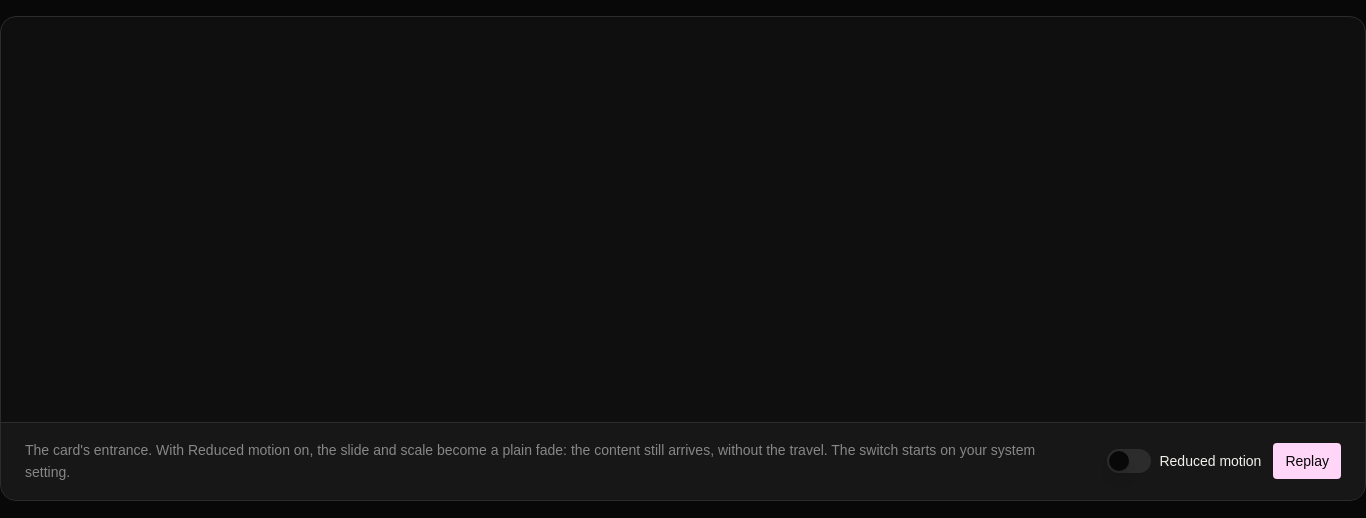
Scenario: Fluid-interfaces demos › toggles reduced motion and replays
This screenshot has width=1366, height=518.
Click the switch named "Reduced motion" at (1130, 461), box [1108,449,1152,473]
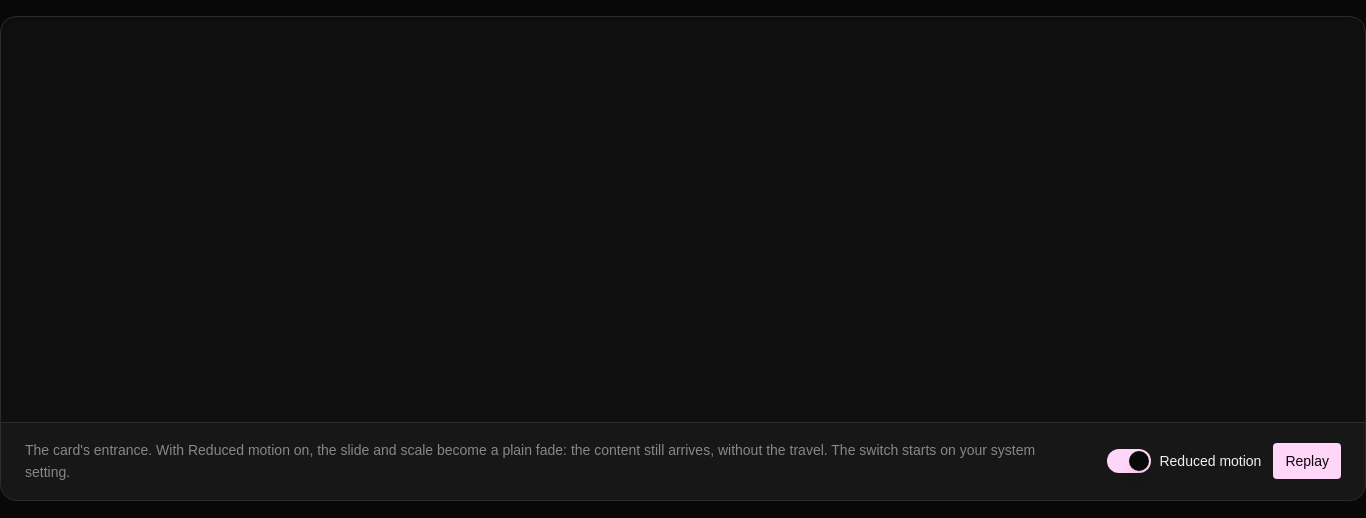
expect the switch named "Reduced motion" does not have attribute aria-checked="false": met, box [1108,449,1152,473]
Click the button "Replay" at (1307, 461), box [1273,443,1341,479]
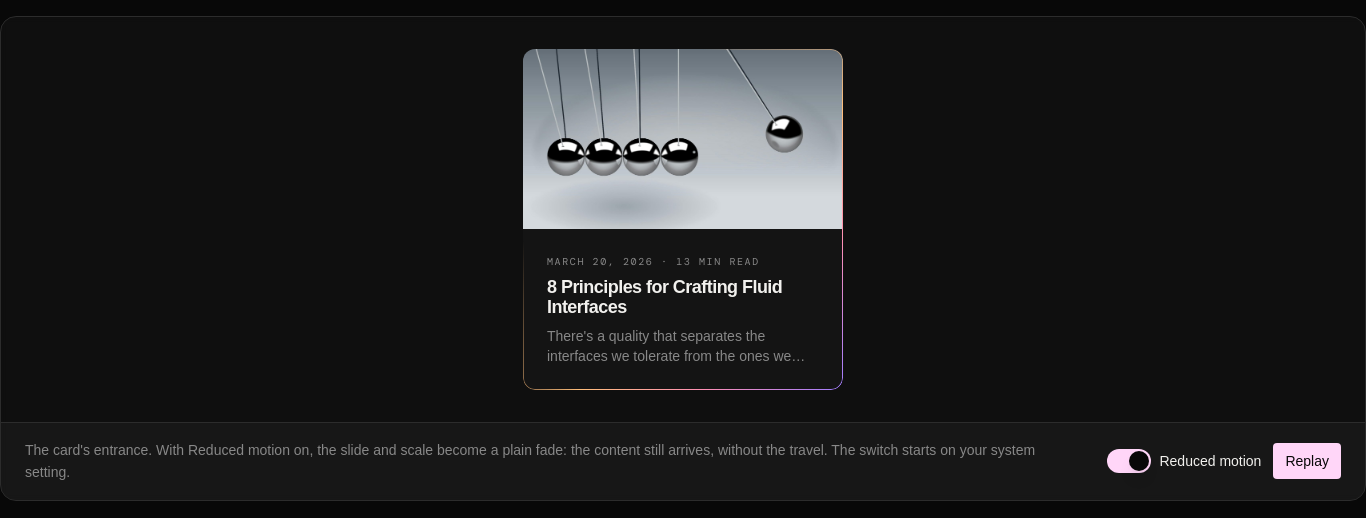
expect the text "8 Principles for Crafting Fluid Interfaces" is shown: met, box [547,278,819,318]
